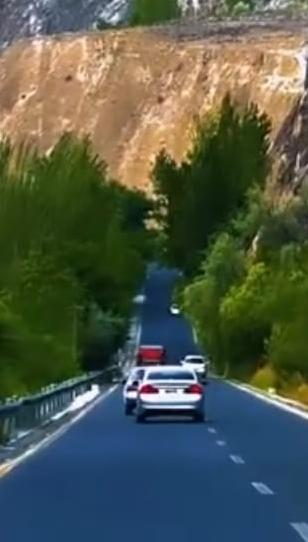sharp_turn: (90, 262, 308, 542)
